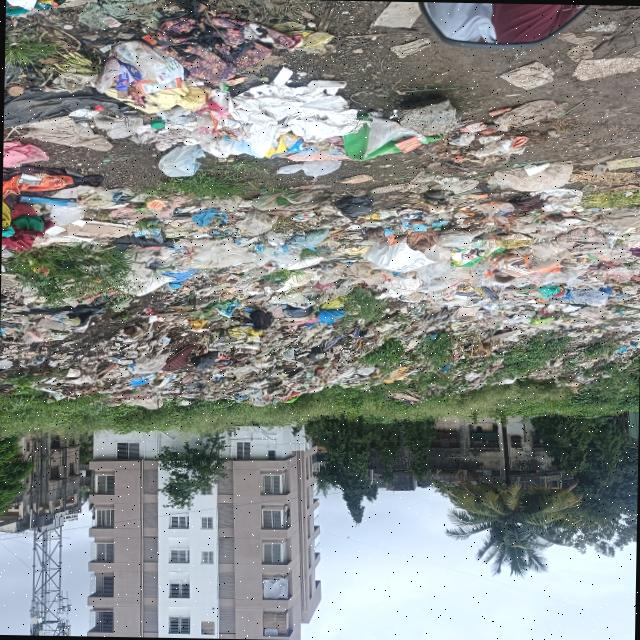garbage: (22, 181, 635, 407), (13, 9, 464, 178)
